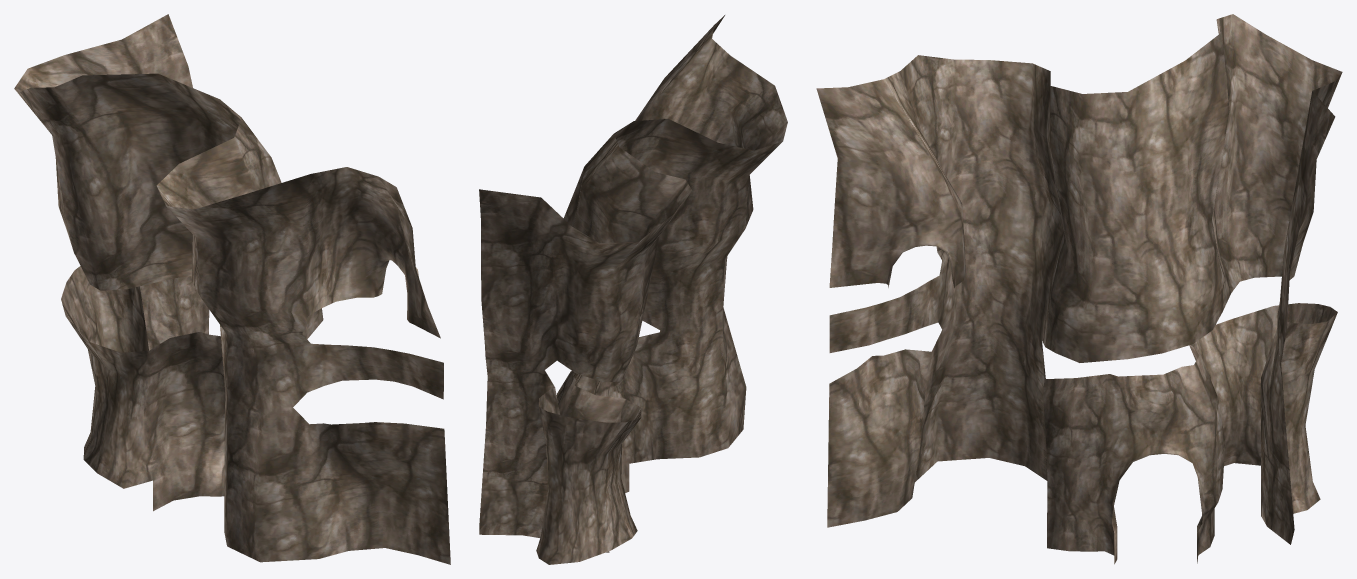
The model's file is EKH_GROTTO_PS_GR_OBJECT15.fbx.
3 renders of one model, left to right at view 1: azimuth 30°, elevation 25°; view 2: azimuth 150°, elevation 25°; view 3: azimuth 270°, elevation 25°, orthographic. The views are drawn at different scales.
Parts seen in each view (by area): view 1: EKH_GROTTO_PS_GR_OBJECT15; view 2: EKH_GROTTO_PS_GR_OBJECT15; view 3: EKH_GROTTO_PS_GR_OBJECT15.
Part boxes in pixels (x1,y1,x2,y2): EKH_GROTTO_PS_GR_OBJECT15: (14,14,450,564); EKH_GROTTO_PS_GR_OBJECT15: (479,15,787,564); EKH_GROTTO_PS_GR_OBJECT15: (816,14,1342,564).
Bounding box in the file's own units: 79571 × 150033 × 154654.
Materials: 1 (1 with a texture image).
